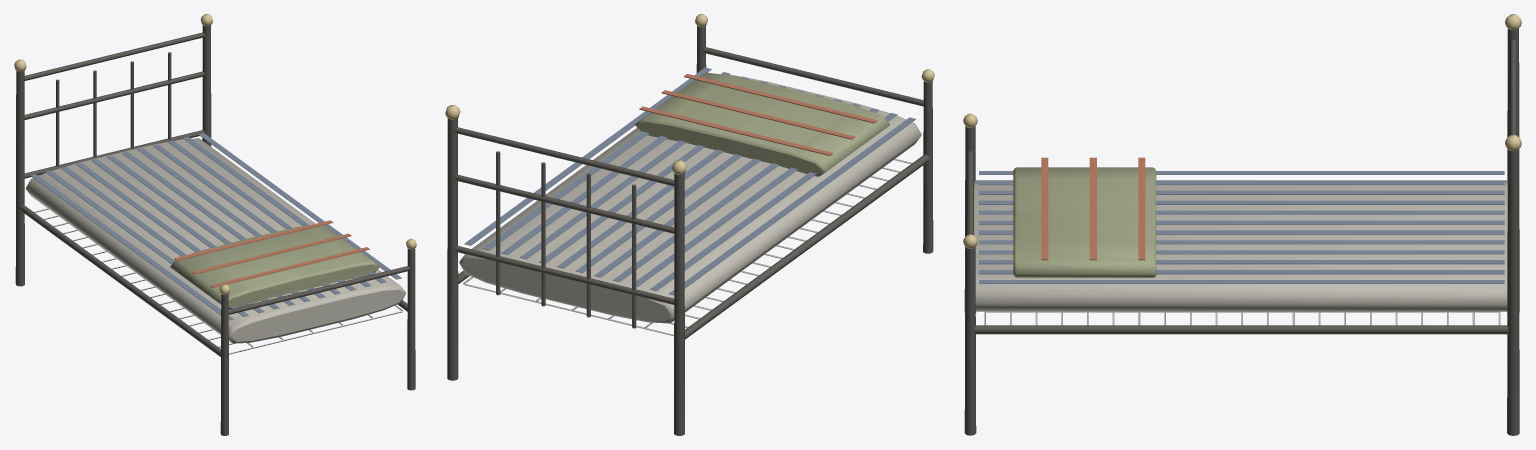
File: cabin_bed_a.glb
3 views of the same model, side by side, from view 1: azimuth 30°, elevation 25°; view 2: azimuth 150°, elevation 25°; view 3: azimuth 270°, elevation 25° (orthographic). The views are drawn at different scales.
Visible parts, largest first — view 1: body; view 2: body; view 3: body.
Part boxes in pixels (bbox=[...]): body: bbox=[14, 14, 416, 435]; body: bbox=[445, 14, 934, 435]; body: bbox=[963, 14, 1521, 435].
Size of the model in its own units: 1.06 by 1.15 by 1.96.
